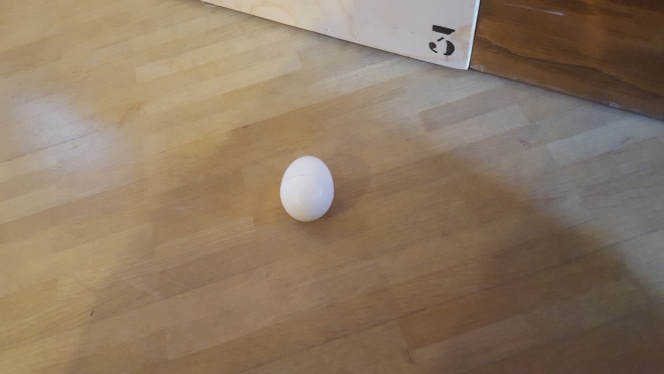egg: (273, 150, 348, 222)
